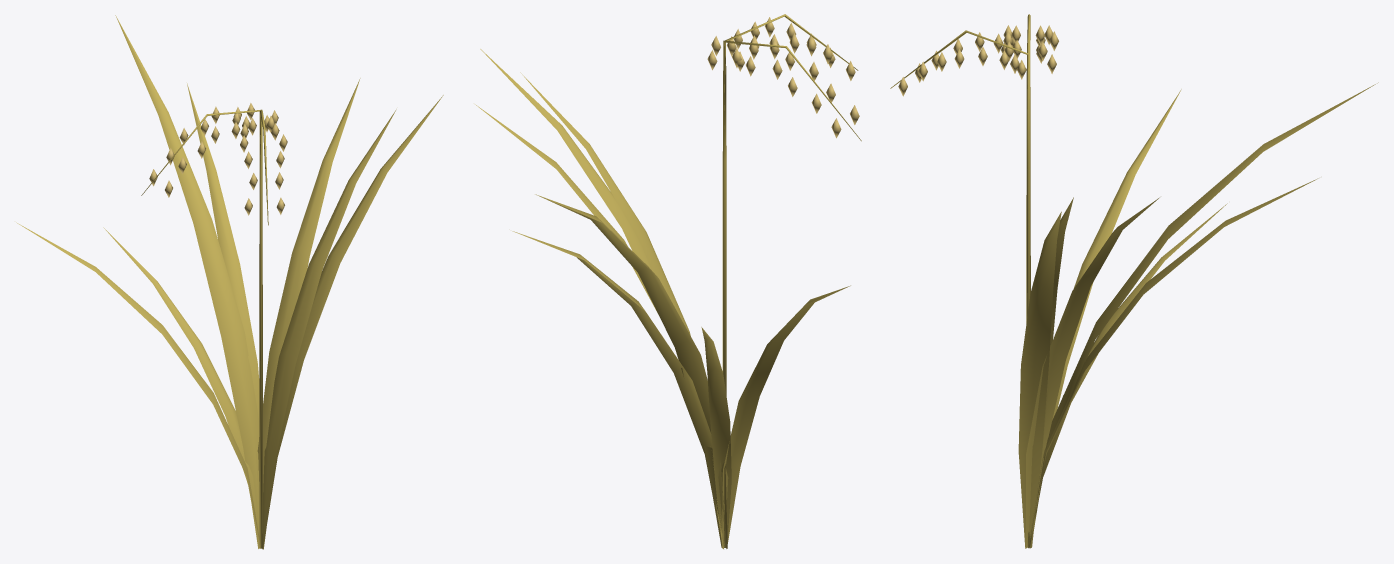
File: KL_LS_Rice_Tuft_Ripe.gltf
3 renders of one model, left to right at view 1: azimuth 30°, elevation 25°; view 2: azimuth 150°, elevation 25°; view 3: azimuth 270°, elevation 25°, orthographic. The views are drawn at different scales.
Parts seen in each view (by area): view 1: TF3_KL_LS_Rice_Tuft_Ripe; view 2: TF3_KL_LS_Rice_Tuft_Ripe; view 3: TF3_KL_LS_Rice_Tuft_Ripe.
Part boxes in pixels (x1=…): TF3_KL_LS_Rice_Tuft_Ripe: x1=16, y1=15, x2=443, y2=549; TF3_KL_LS_Rice_Tuft_Ripe: x1=475, y1=14, x2=861, y2=549; TF3_KL_LS_Rice_Tuft_Ripe: x1=890, y1=14, x2=1378, y2=548.
Bounding box in the file's own units: 0.6962 × 0.7902 × 0.6944.
